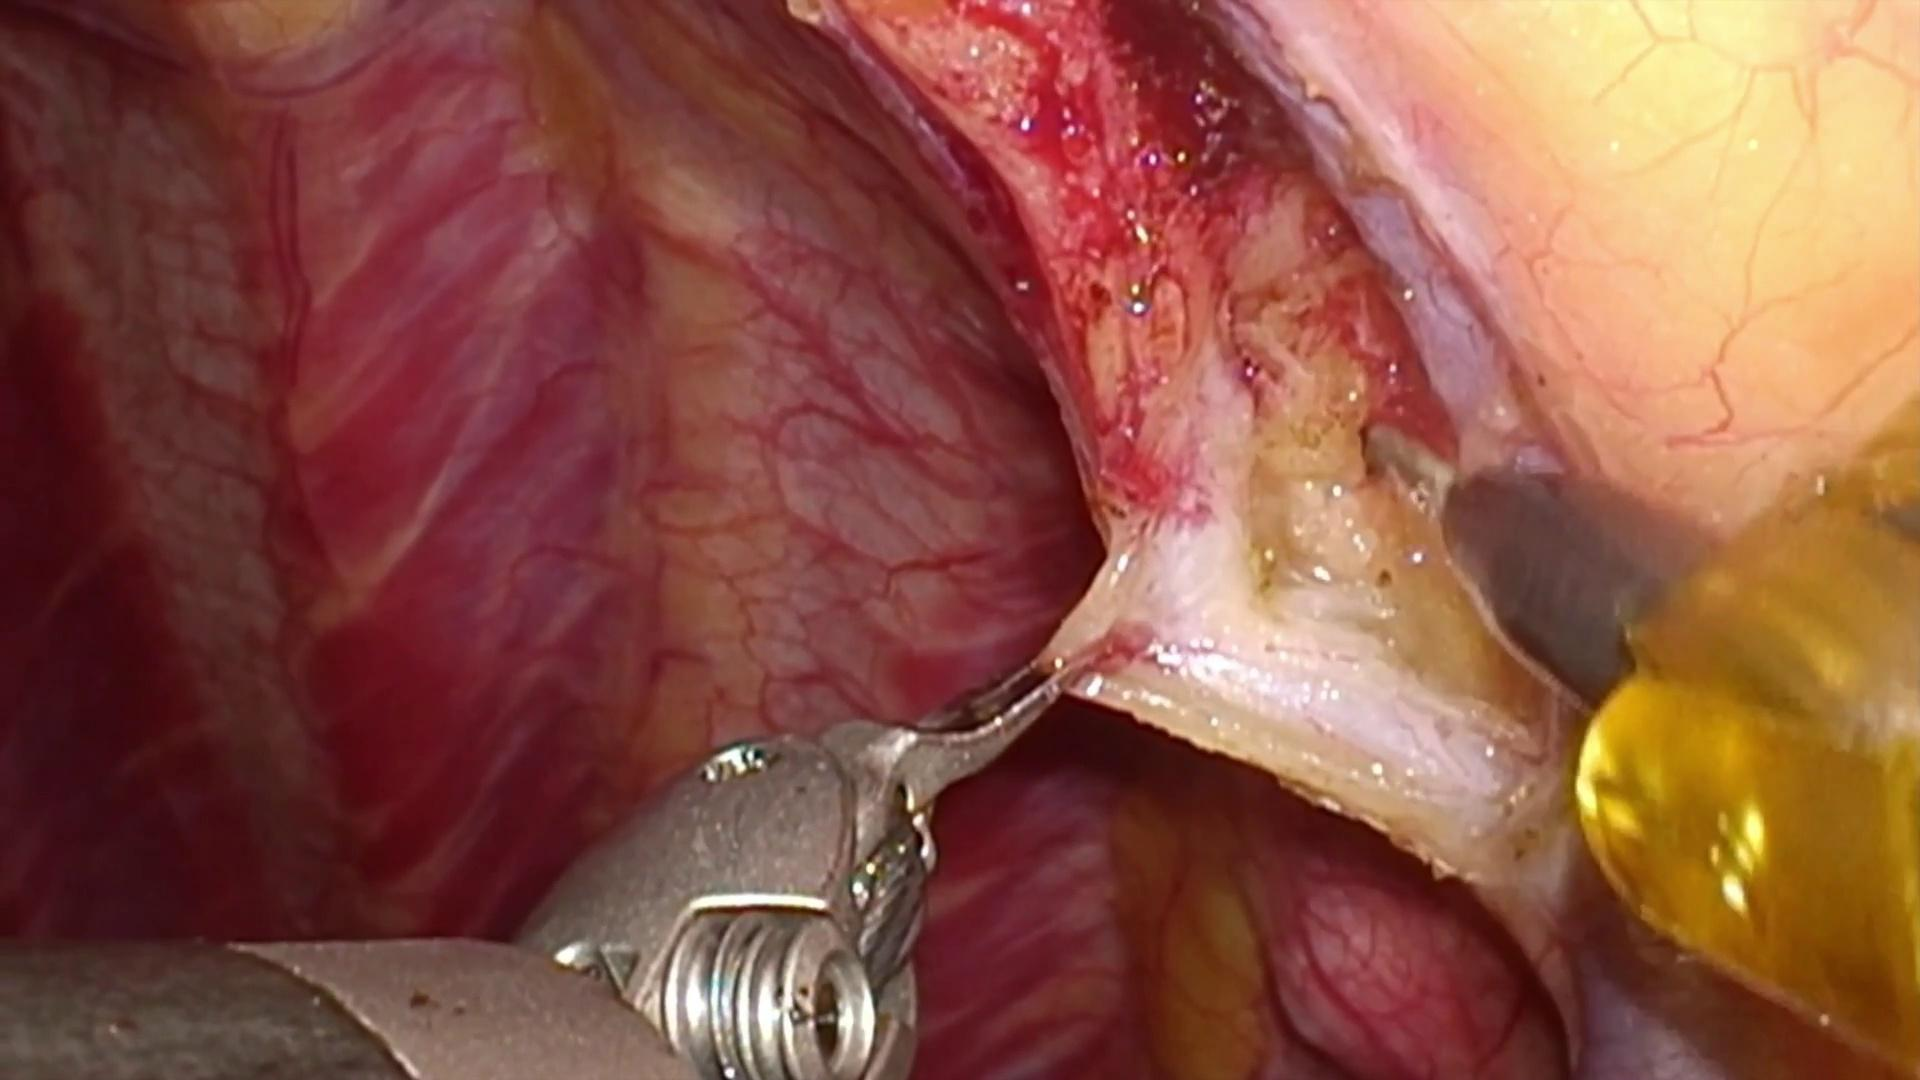Cautery_Spatula: (1360, 421, 1705, 695)
Debakey: (822, 625, 1071, 845)
